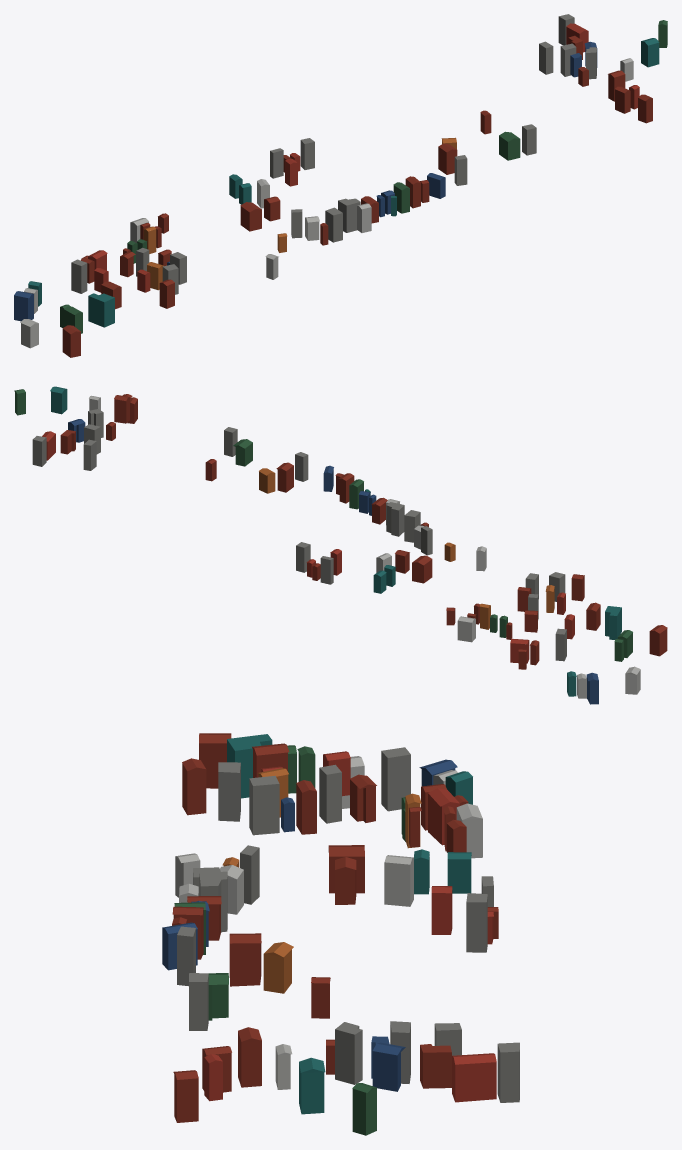
The model's file is near-15-27363-14877.789e758f.glb.
The picture shows the model from 3 angles, top to bottom: view 1: azimuth 30°, elevation 25°; view 2: azimuth 150°, elevation 25°; view 3: azimuth 270°, elevation 25°; orthographic projection. The views are drawn at different scales.
Bounding box in the file's own units: 591 × 142 × 148.
